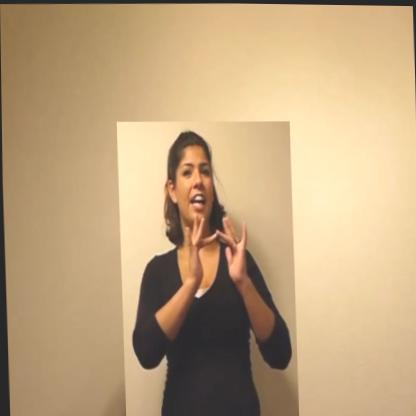Internet: (115, 117, 297, 416)
